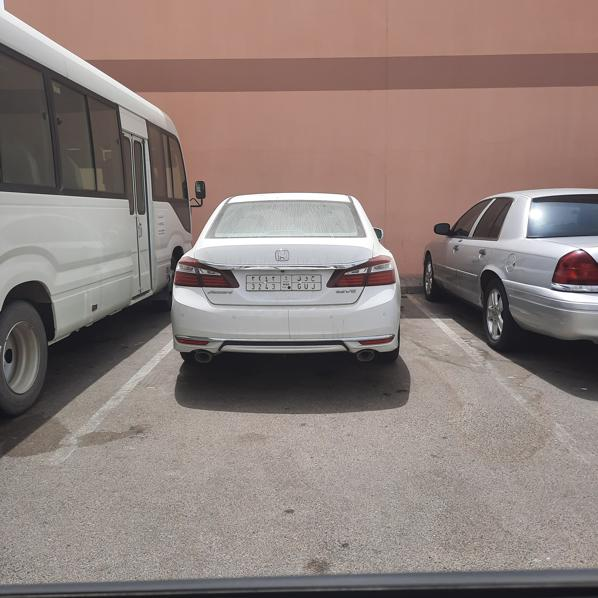numberplate: (245, 272, 326, 293)
